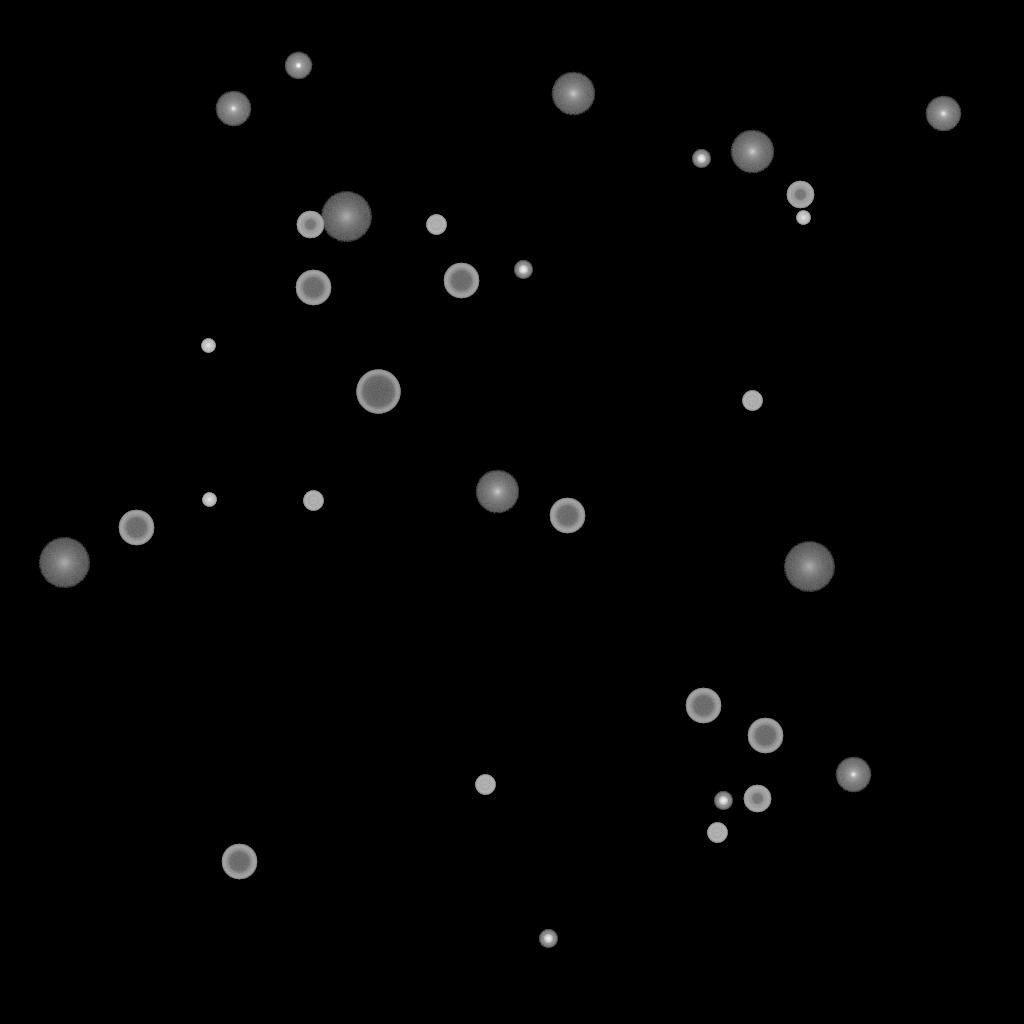depth:-10: (284, 52, 312, 80)
depth:-20: (514, 261, 532, 279), (539, 930, 557, 948), (692, 150, 710, 168), (714, 792, 732, 810)
depth:-30: (202, 493, 216, 507), (796, 211, 810, 225), (201, 339, 215, 353)
depth:-40: (742, 391, 762, 411), (426, 215, 446, 235), (707, 823, 727, 843), (303, 491, 323, 511), (475, 775, 495, 795)
depth:-50: (786, 181, 814, 209), (743, 785, 771, 813), (296, 211, 324, 239)
depth:-60: (295, 270, 331, 306), (118, 510, 154, 546), (747, 718, 783, 754), (685, 688, 721, 724), (549, 498, 585, 534), (221, 844, 257, 880), (443, 263, 479, 299)
depth:-70: (356, 370, 400, 414)
depth:0: (835, 757, 871, 793), (215, 91, 251, 127), (925, 96, 961, 132)
depth:10: (551, 72, 595, 116), (730, 130, 774, 174), (475, 470, 519, 514)
depth:20: (320, 192, 372, 242), (783, 542, 835, 592), (38, 538, 90, 588)
